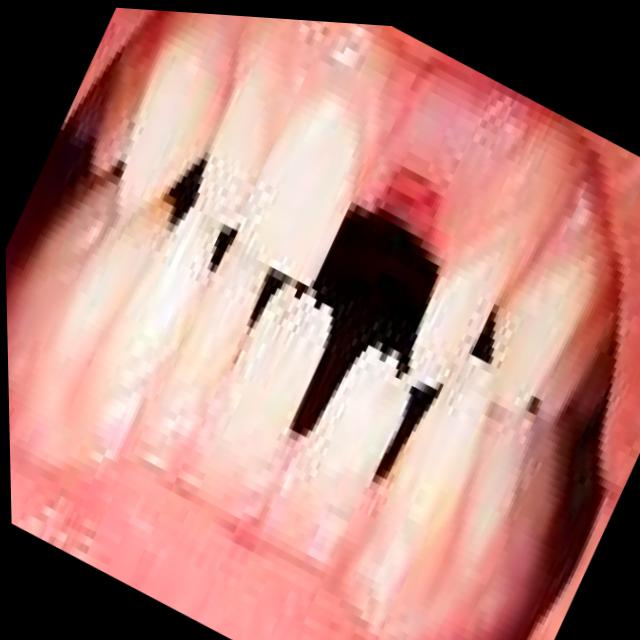hypodontia: (324, 65, 510, 318)
